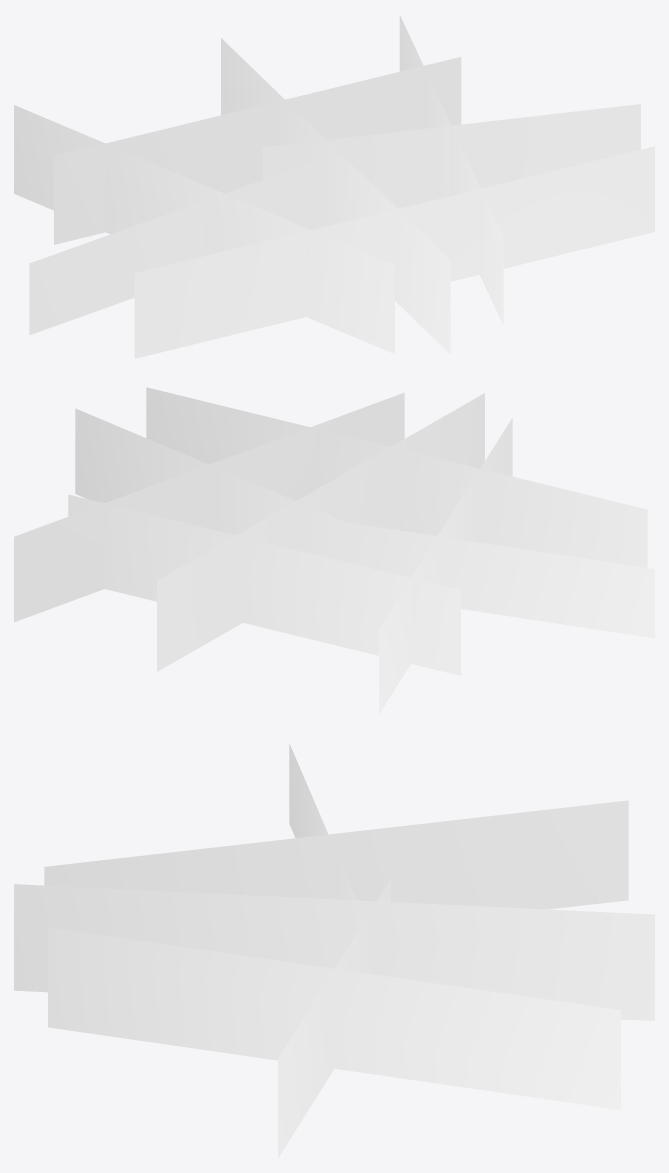
The model's file is SM_Env_Grass_Short_Clump_02.glb.
3 renders of one model, top to bottom at view 1: azimuth 30°, elevation 25°; view 2: azimuth 150°, elevation 25°; view 3: azimuth 270°, elevation 25°, orthographic. The views are drawn at different scales.
Parts seen in each view (by area): view 1: SM_Env_Grass_Short_Clump_02_LOD0; view 2: SM_Env_Grass_Short_Clump_02_LOD0; view 3: SM_Env_Grass_Short_Clump_02_LOD0.
Boxes of the visible parts, x1,y1,x2,y2 form: SM_Env_Grass_Short_Clump_02_LOD0: [14, 15, 654, 358]; SM_Env_Grass_Short_Clump_02_LOD0: [14, 387, 654, 714]; SM_Env_Grass_Short_Clump_02_LOD0: [14, 743, 654, 1158].
Size of what is drawn, in the model's own units: 1.79 by 0.2664 by 1.45.
1 material, 1 textured.
